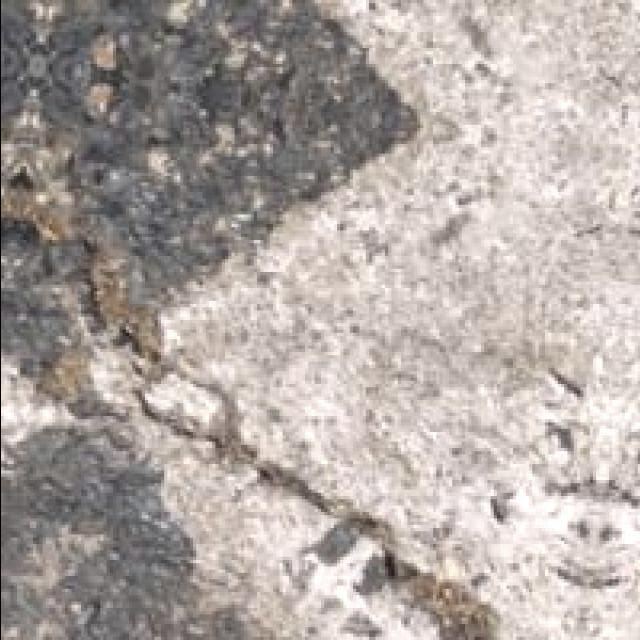SurfaceCrack: (126, 328, 498, 640)
